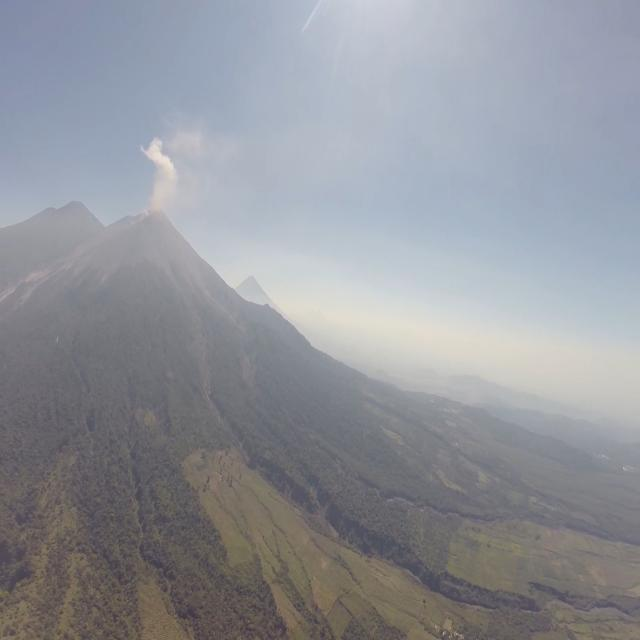Plume: (142, 136, 182, 214)
Summit: (140, 206, 172, 222)
